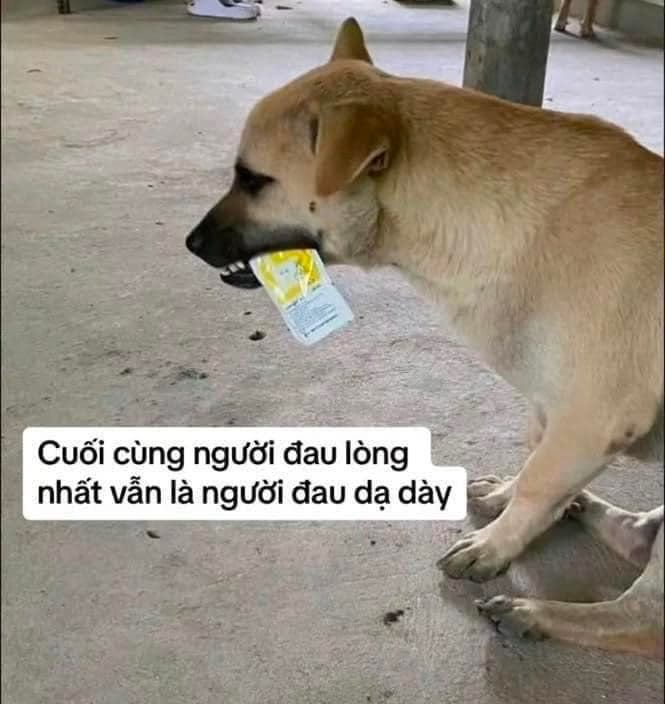dog: (182, 15, 665, 649)
